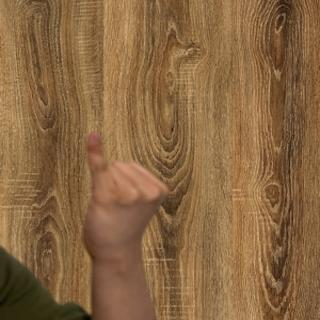FINE: (78, 128, 173, 267)
